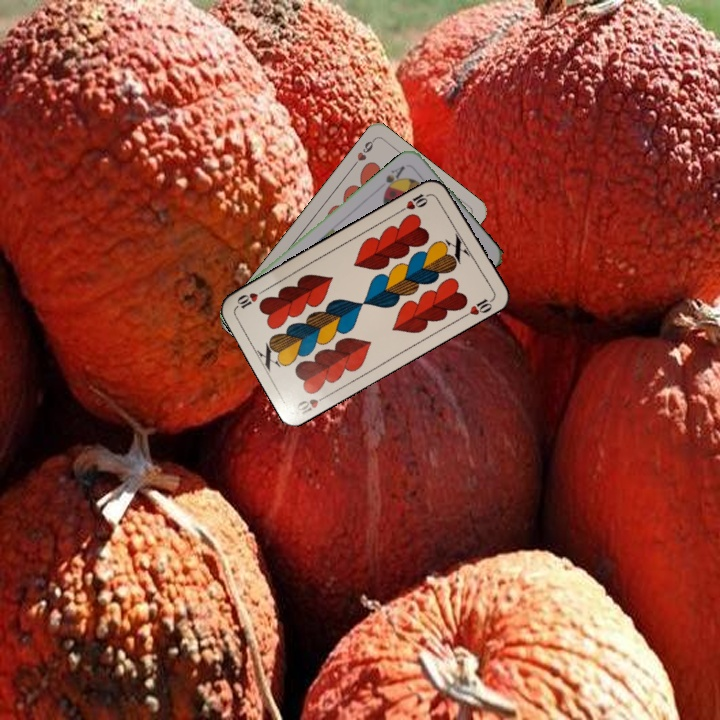H10: (293, 390, 331, 418), (396, 189, 434, 215)
H9: (348, 135, 377, 170)
SA: (380, 162, 408, 195)
